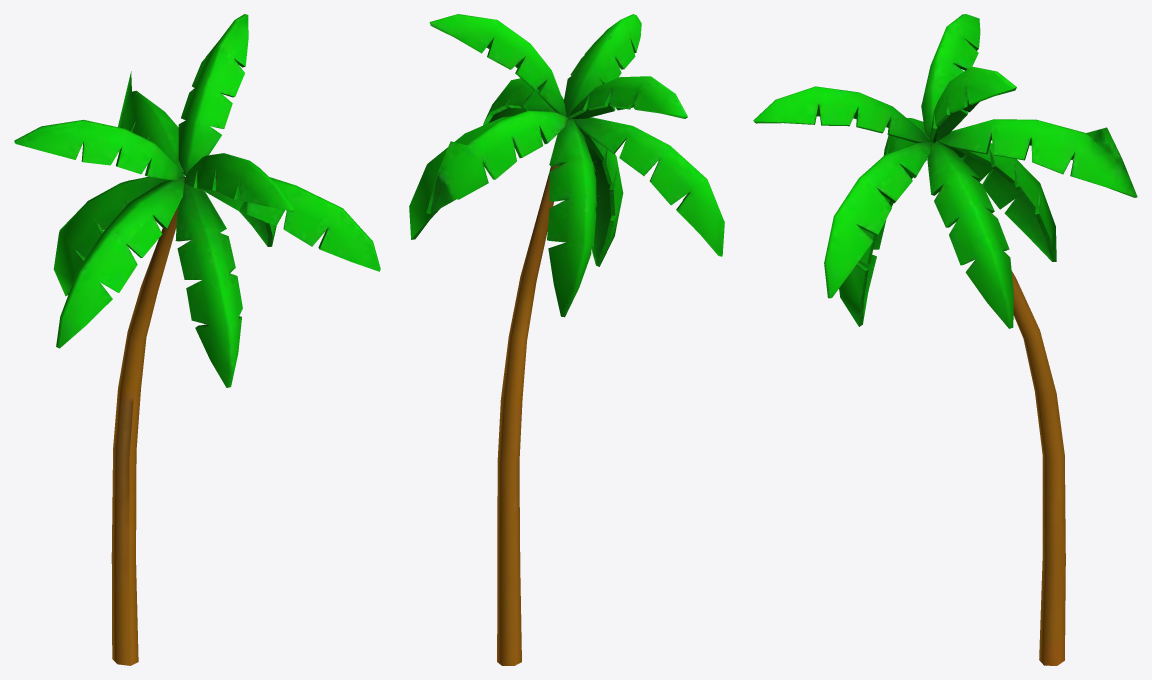
The model's file is Palm 02.glb.
3 renders of one model, left to right at view 1: azimuth 30°, elevation 25°; view 2: azimuth 150°, elevation 25°; view 3: azimuth 270°, elevation 25°, orthographic. The views are drawn at different scales.
Visible parts, largest first — view 1: Palm_02; view 2: Palm_02; view 3: Palm_02.
Boxes of the visible parts, left/top/right/bottom form: Palm_02: left=14, top=14, right=380, bottom=665; Palm_02: left=409, top=14, right=724, bottom=665; Palm_02: left=753, top=14, right=1137, bottom=665.
Bounding box in the file's own units: 7.78 × 16.35 × 9.06.
1 material, 1 textured.
